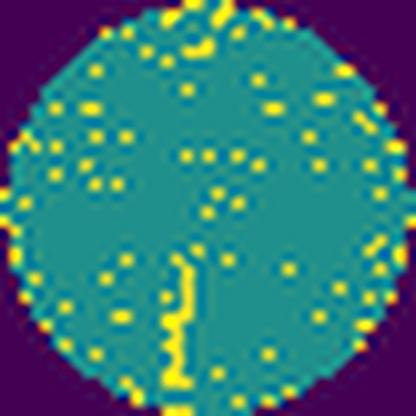Scratch: (158, 250, 199, 393)
